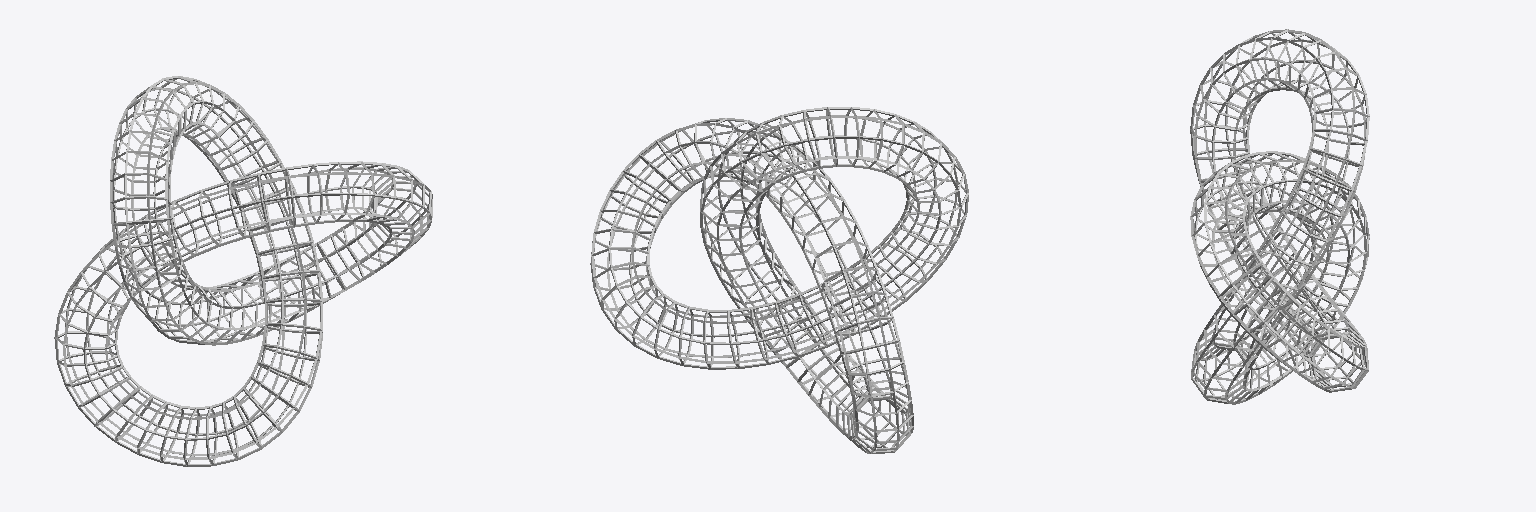
File: TorusKnotWireframe.obj
The picture shows the model from 3 angles: view 1: azimuth 30°, elevation 25°; view 2: azimuth 150°, elevation 25°; view 3: azimuth 270°, elevation 25°; orthographic projection.
Parts seen in each view (by area): view 1: Torus_Knot.001; view 2: Torus_Knot.001; view 3: Torus_Knot.001.
Boxes of the visible parts, box(x1,y1,x2,y2) form: Torus_Knot.001: box(54, 76, 432, 466); Torus_Knot.001: box(590, 107, 968, 453); Torus_Knot.001: box(1190, 29, 1369, 404).
Size of the model in its own units: 192 by 192 by 88.92.